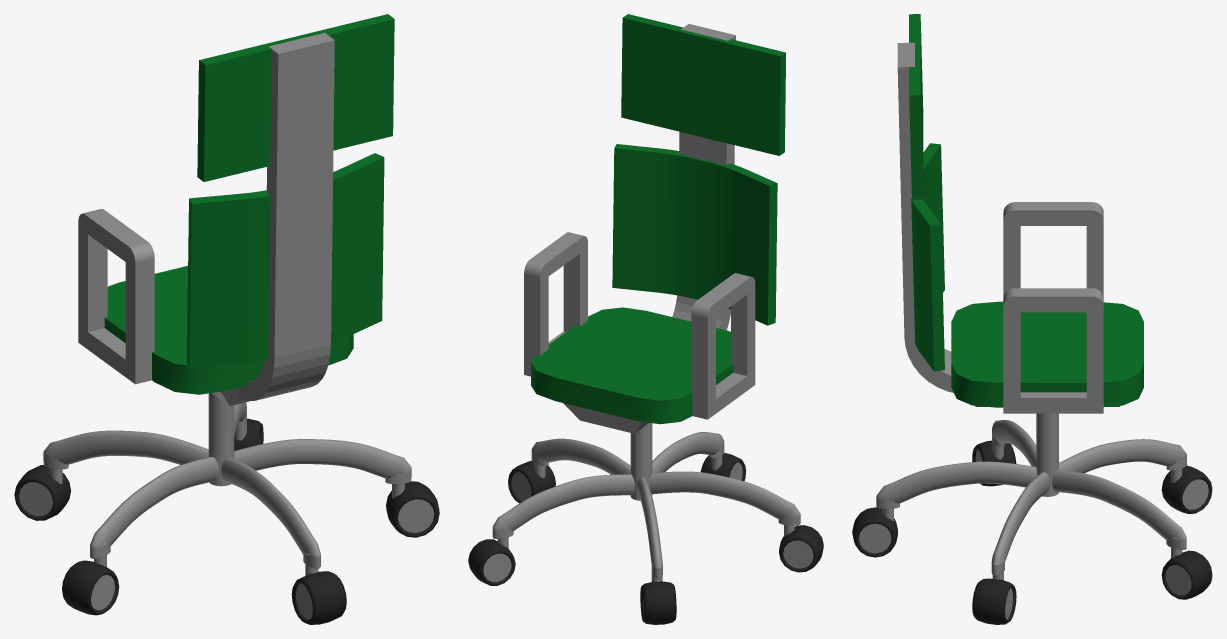
Rendered from Office Chairs.glb.
3 renders of one model, left to right at view 1: azimuth 30°, elevation 25°; view 2: azimuth 150°, elevation 25°; view 3: azimuth 270°, elevation 25°, orthographic. The views are drawn at different scales.
Parts seen in each view (by area): view 1: Backrest base, Backrest, Cube, Spline 3D (×4), Armrest, Seat 2, Wheel outer (×5), Wheel inner (×3), stand; view 2: Backrest, Cube, Seat 2, Armrest (×2), Spline 3D (×5), Wheel outer (×5), Backrest base, Wheel inner (×2), stand, base; view 3: Seat 2, Spline 3D (×5), Armrest (×2), Backrest, Wheel outer (×5), Backrest base, Cube, Wheel inner (×3), stand.
Boxes of the visible parts, left/top/right/bottom form: Backrest base: left=237, top=33, right=334, bottom=401; Backrest: left=186, top=153, right=384, bottom=367; Cube: left=197, top=14, right=394, bottom=181; Spline 3D (×4): left=43, top=430, right=411, bottom=568; Armrest: left=78, top=209, right=154, bottom=384; Seat 2: left=104, top=265, right=353, bottom=394; Wheel outer (×5): left=14, top=418, right=439, bottom=624; Wheel inner (×3): left=19, top=482, right=434, bottom=610; stand: left=208, top=393, right=234, bottom=486; Backrest: left=612, top=144, right=777, bottom=325; Cube: left=621, top=14, right=785, bottom=155; Seat 2: left=531, top=307, right=733, bottom=424; Armrest (×2): left=524, top=232, right=755, bottom=419; Spline 3D (×5): left=492, top=432, right=800, bottom=578; Wheel outer (×5): left=468, top=453, right=823, bottom=624; Backrest base: left=672, top=24, right=735, bottom=330; Wheel inner (×2): left=483, top=540, right=813, bottom=581; stand: left=630, top=423, right=652, bottom=500; base: left=563, top=403, right=649, bottom=433; Seat 2: left=951, top=301, right=1143, bottom=407; Spline 3D (×5): left=876, top=420, right=1186, bottom=575; Armrest (×2): left=1003, top=202, right=1103, bottom=413; Backrest: left=911, top=143, right=944, bottom=371; Wheel outer (×5): left=852, top=440, right=1212, bottom=624; Backrest base: left=897, top=42, right=953, bottom=392; Cube: left=909, top=14, right=923, bottom=199; Wheel inner (×3): left=859, top=479, right=1208, bottom=595; stand: left=1036, top=413, right=1058, bottom=496.
Bounding box in the file's own units: 0.6558 × 0.9572 × 0.6265.
